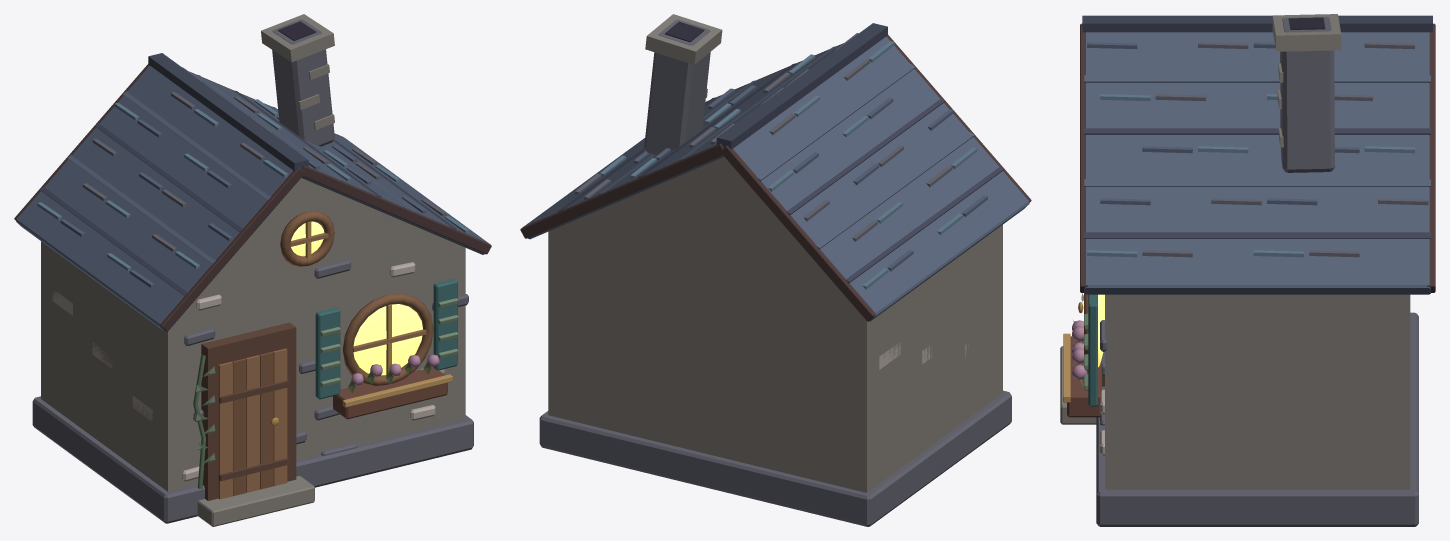
The model's file is village_house_1.glb.
3 views of the same model, side by side, from view 1: azimuth 30°, elevation 25°; view 2: azimuth 150°, elevation 25°; view 3: azimuth 270°, elevation 25° (orthographic). The views are drawn at different scales.
Visible parts, largest first — view 1: village_house_1; view 2: village_house_1; view 3: village_house_1.
Boxes of the visible parts, <box> form: village_house_1: <box>14,14,491,526</box>; village_house_1: <box>520,14,1031,526</box>; village_house_1: <box>1060,14,1435,526</box>.
Size of the model in its own units: 2.2 by 2.4 by 1.8.
